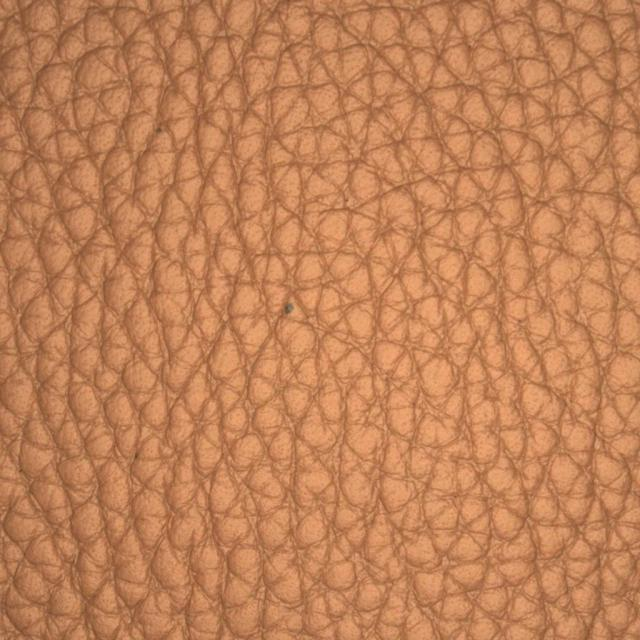Hole: (225, 217, 354, 396)
